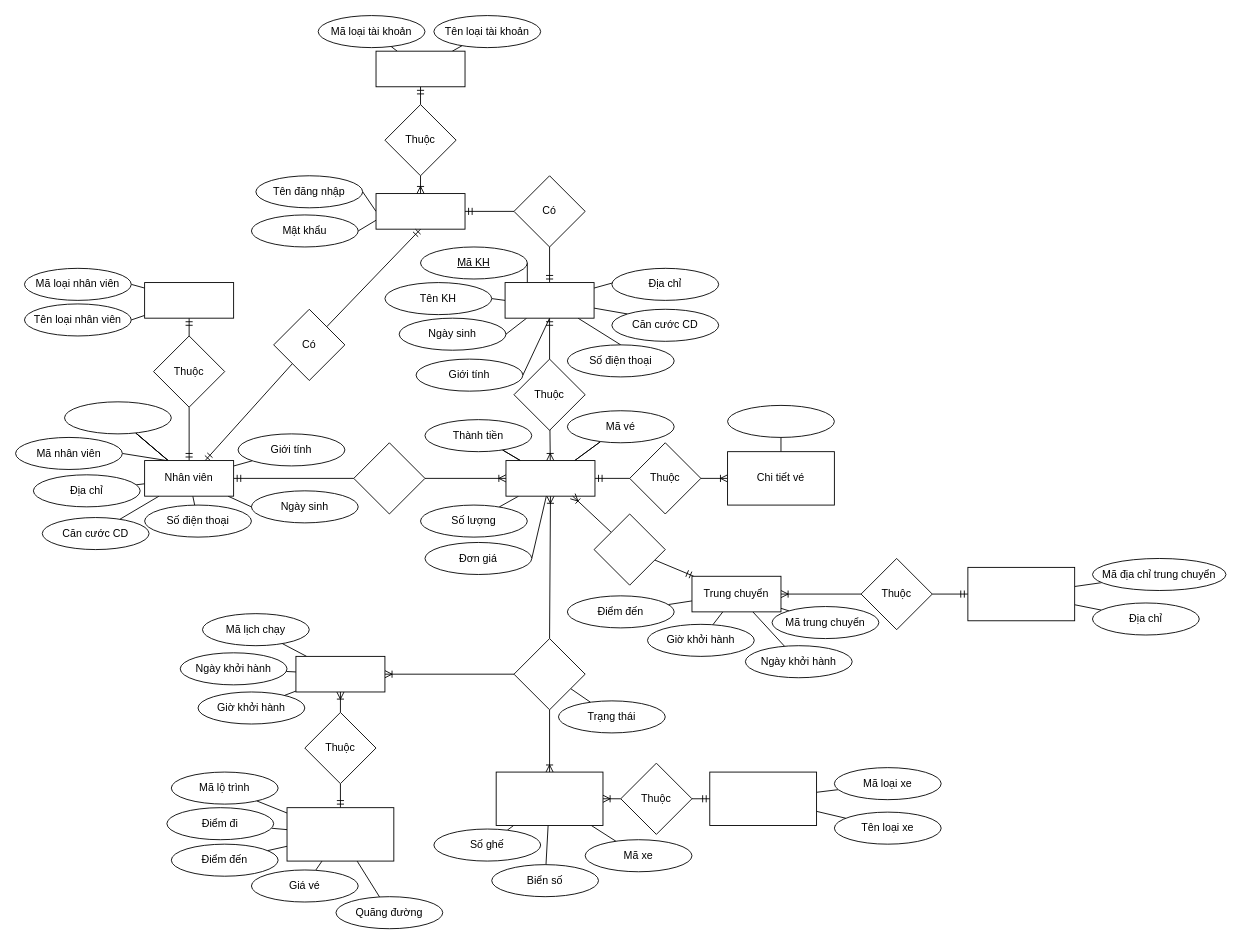
This 1242x944 diagram has some shape labels left out. Each missing label, with the box of its shape:
Chạy: (513, 638, 585, 710)
Ghế ngồi: (727, 405, 834, 437)
Gồm: (593, 513, 665, 585)
Khách hàng: (504, 282, 594, 318)
Loại nhân viên: (144, 282, 234, 318)
Loại tài khoản: (375, 50, 465, 87)
Loại xe: (709, 771, 817, 825)
Lịch chạy: (295, 655, 385, 692)
Lộ trình: (286, 807, 394, 861)
Thực hiện: (353, 442, 425, 514)
Tài khoản: (375, 193, 465, 229)
Tên nhân viên: (64, 401, 171, 434)
Vé xe: (505, 460, 595, 496)
Xe: (495, 771, 603, 825)
Địa chỉ trung chuyển: (967, 566, 1075, 621)
